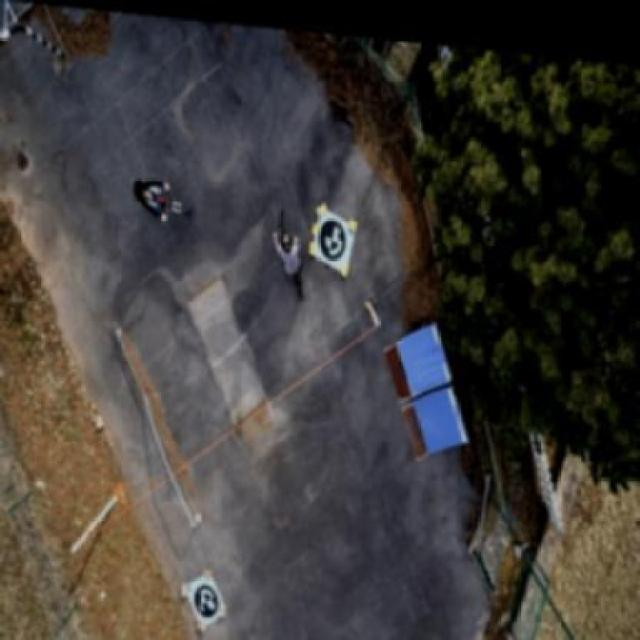Person: (126, 166, 174, 225), (266, 220, 302, 277), (414, 628, 460, 638)
